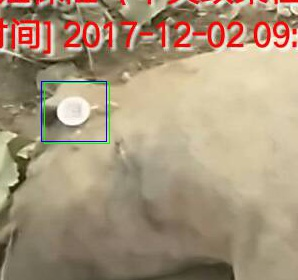text: (44, 82, 109, 143)
